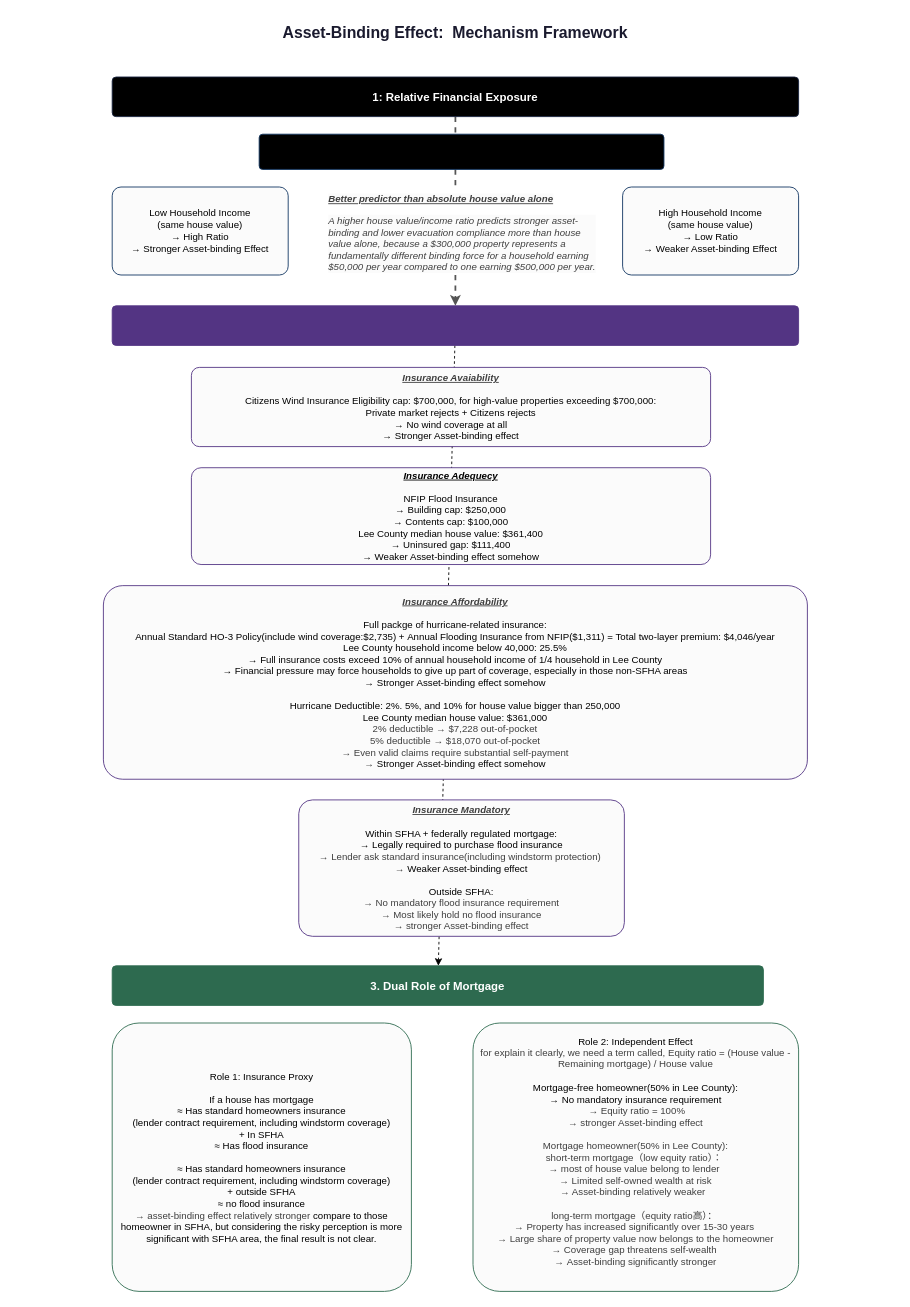
This 910x1307 diagram has some shape labels left out. The shapes that lost their labels are listed below. From the top down, each one's centre as x and y in pixels, then its label:
At [461,151]: "House Value / Income Ratio".
At [455,325]: "2: Insurance Adequacy & Avaiability & Affordability & Mandatory".
